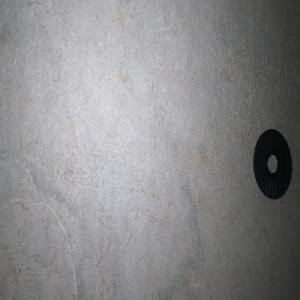Washer: (252, 128, 292, 199)
